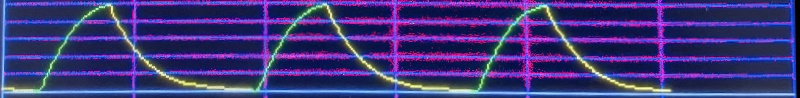normal_volume: (4, 0, 670, 96)
